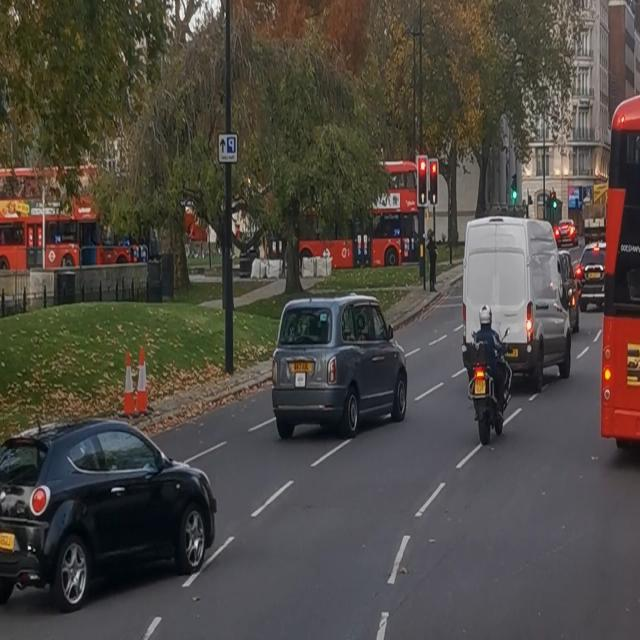Vehicle: (4, 427, 220, 611), (269, 291, 408, 434), (463, 213, 574, 384)
